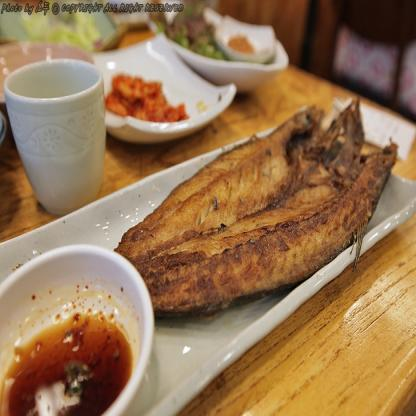Peixe: (150, 89, 397, 331)
